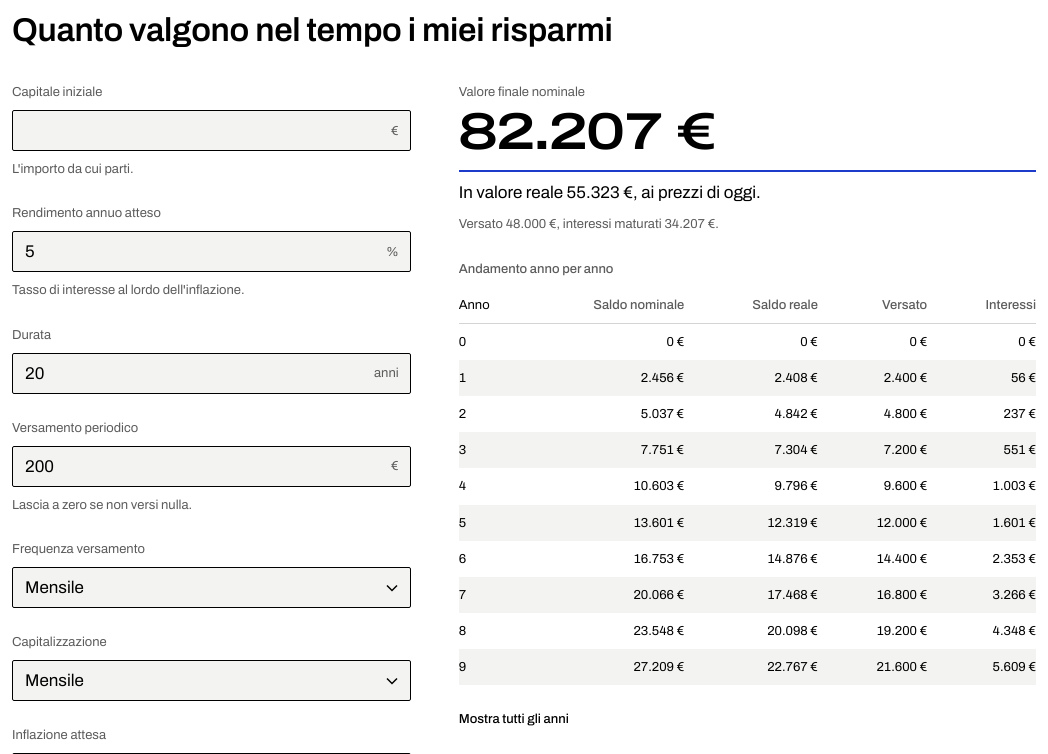
CompoundInterestPage › falls back to a sensible nominal when contributions are set to 'none'
Select "Nessuno" in the dropdown labelled "Frequenza versamento". click: (211, 588)
box: [12,567,411,608]
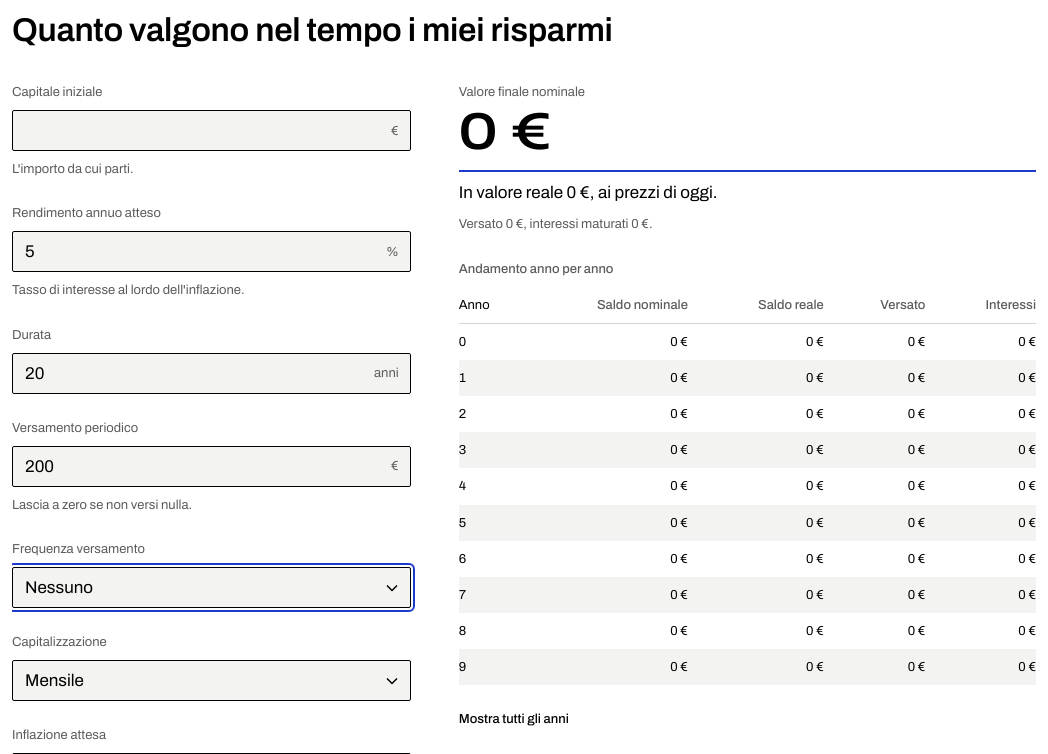
Expected: the element showing "Versato 0 €, interessi maturati 0 €." is shown, [459,217,653,231]
